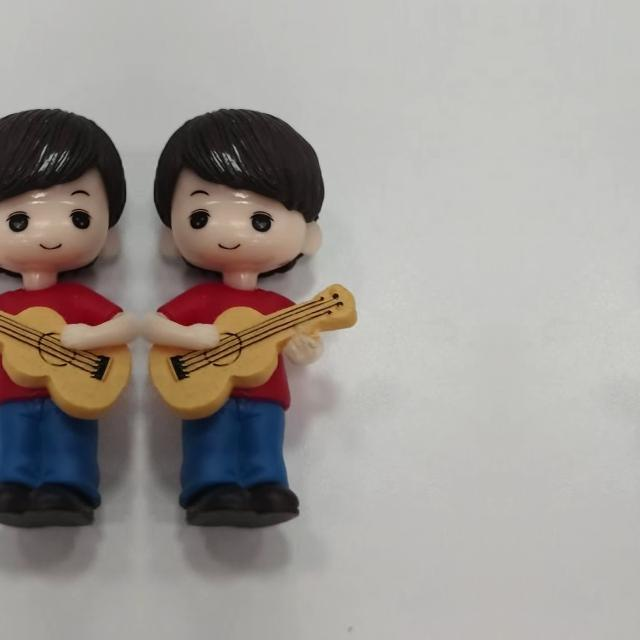man cloth: (150, 285, 334, 417), (0, 285, 130, 417)
man head: (150, 102, 332, 290), (0, 102, 130, 290)
trousers: (155, 392, 309, 538), (0, 392, 125, 537)
